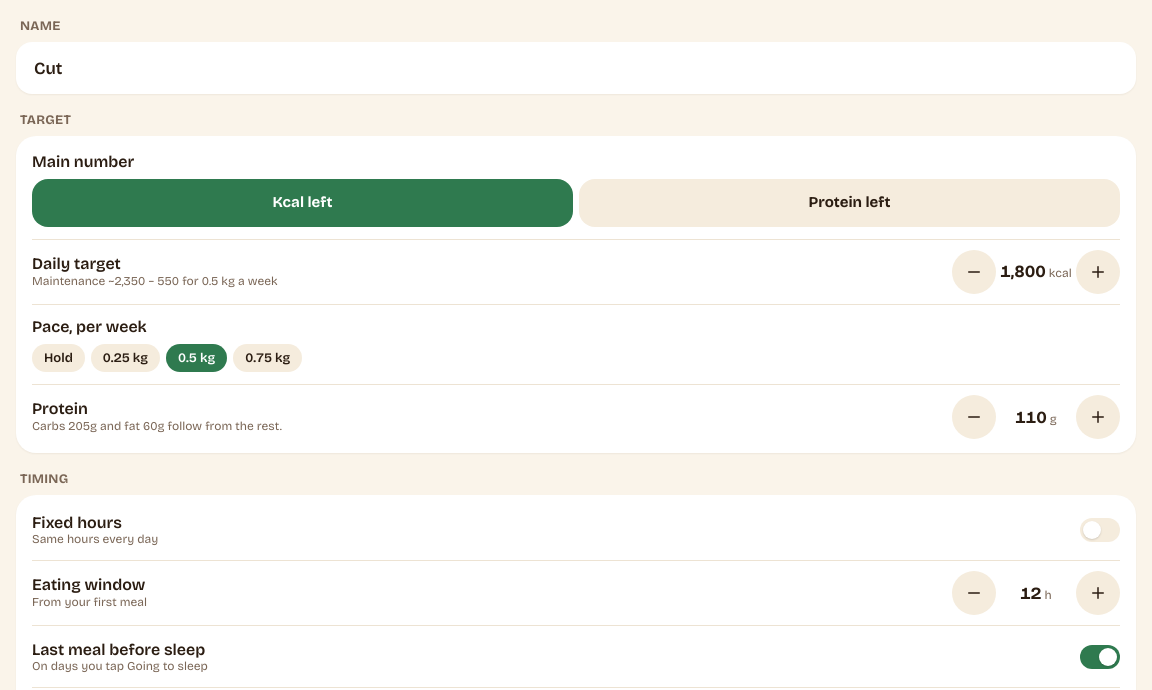
Test: GoalEditorFields (C48) › lets a Custom goal pick its main number, hold its weight and set fixed hours
The image size is (1152, 690).
Click the button "Protein left" at (850, 203), box 579,179 -> 1120,226
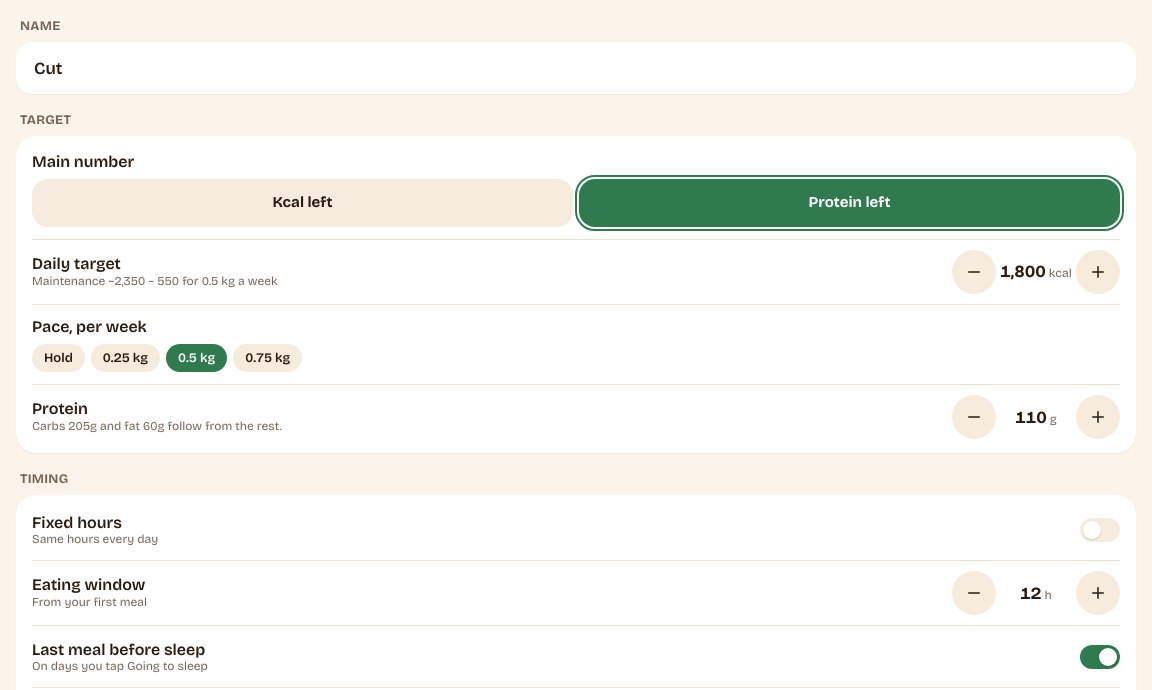
Expected: the button "Hold" is shown, 32,344 -> 85,372
Result: the button "Protein left" is pressed at 579,179 -> 1120,226
Click the switch named "Fixed hours" at (1100, 530), box 1080,518 -> 1120,542
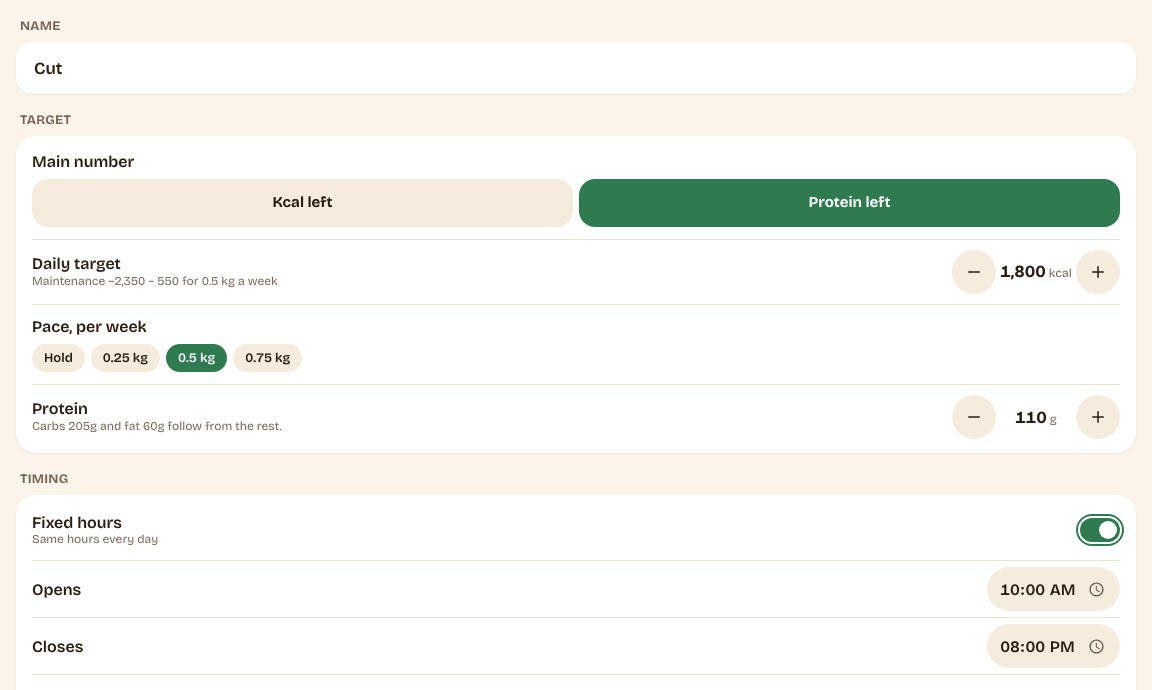
Expected: the element "Eating window" is not shown
Result: the time field labelled "Opens" holds "10:00" at 987,567 -> 1120,611
Result: the time field labelled "Closes" holds "20:00" at 987,624 -> 1120,668
